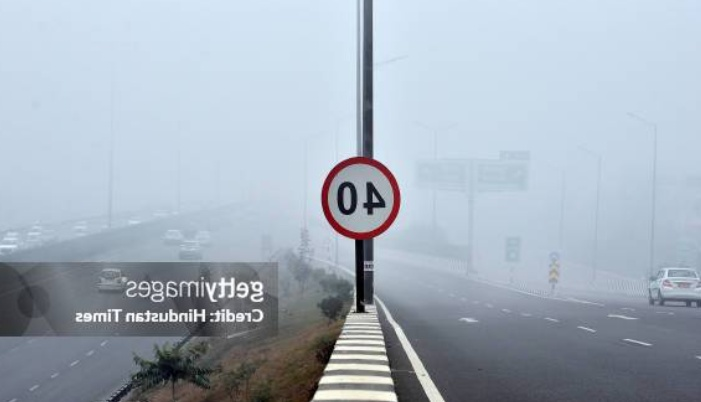Speed limit: (312, 155, 404, 249)
